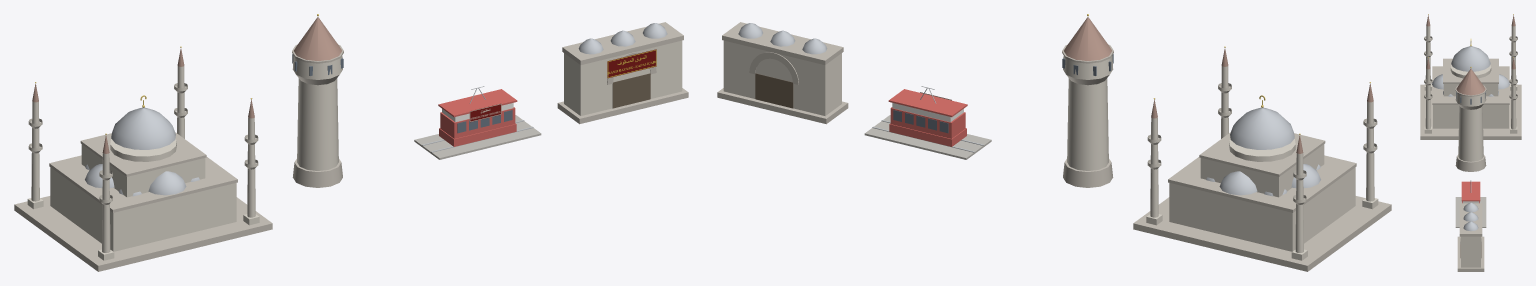
The model's file is kit-51-wisata-turki.glb.
3 views of the same model, side by side, from view 1: azimuth 30°, elevation 25°; view 2: azimuth 150°, elevation 25°; view 3: azimuth 270°, elevation 25° (orthographic). The views are drawn at different scales.
Visible parts, largest first — view 1: Turki_MasjidSultanahmet, Turki_GerbangBazaar, Turki_MenaraGalata, Turki_TramMerah; view 2: Turki_MasjidSultanahmet, Turki_GerbangBazaar, Turki_MenaraGalata, Turki_TramMerah; view 3: Turki_MasjidSultanahmet, Turki_MenaraGalata, Turki_GerbangBazaar, Turki_TramMerah.
Part boxes in pixels (x1=…): Turki_MasjidSultanahmet: x1=14, y1=46, x2=272, y2=271; Turki_GerbangBazaar: x1=557, y1=22, x2=688, y2=124; Turki_MenaraGalata: x1=292, y1=14, x2=343, y2=187; Turki_TramMerah: x1=414, y1=86, x2=541, y2=159; Turki_MasjidSultanahmet: x1=1133, y1=46, x2=1391, y2=271; Turki_GerbangBazaar: x1=717, y1=22, x2=848, y2=124; Turki_MenaraGalata: x1=1062, y1=14, x2=1113, y2=187; Turki_TramMerah: x1=864, y1=86, x2=991, y2=159; Turki_MasjidSultanahmet: x1=1420, y1=14, x2=1521, y2=139; Turki_MenaraGalata: x1=1455, y1=67, x2=1486, y2=171; Turki_GerbangBazaar: x1=1457, y1=202, x2=1484, y2=271; Turki_TramMerah: x1=1455, y1=180, x2=1486, y2=227.
Size of the model in its own units: 42.75 by 10.74 by 10.
Materials: 14 (2 with a texture image).
